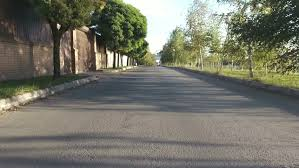strada: (0, 67, 299, 166)
